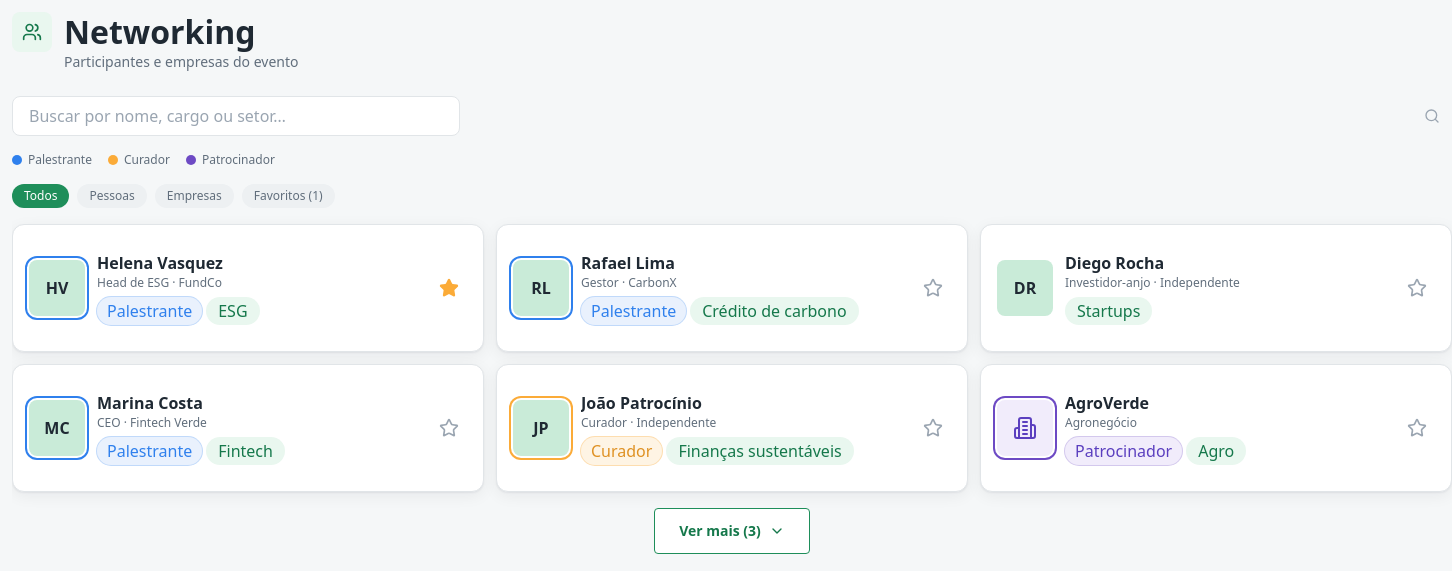
Test: Networking › o filtro de favoritos usa o que foi marcado
The image size is (1452, 571).
Step 1. Click the button "Favoritos (1)" → (288, 196), box [242,184,335,208]
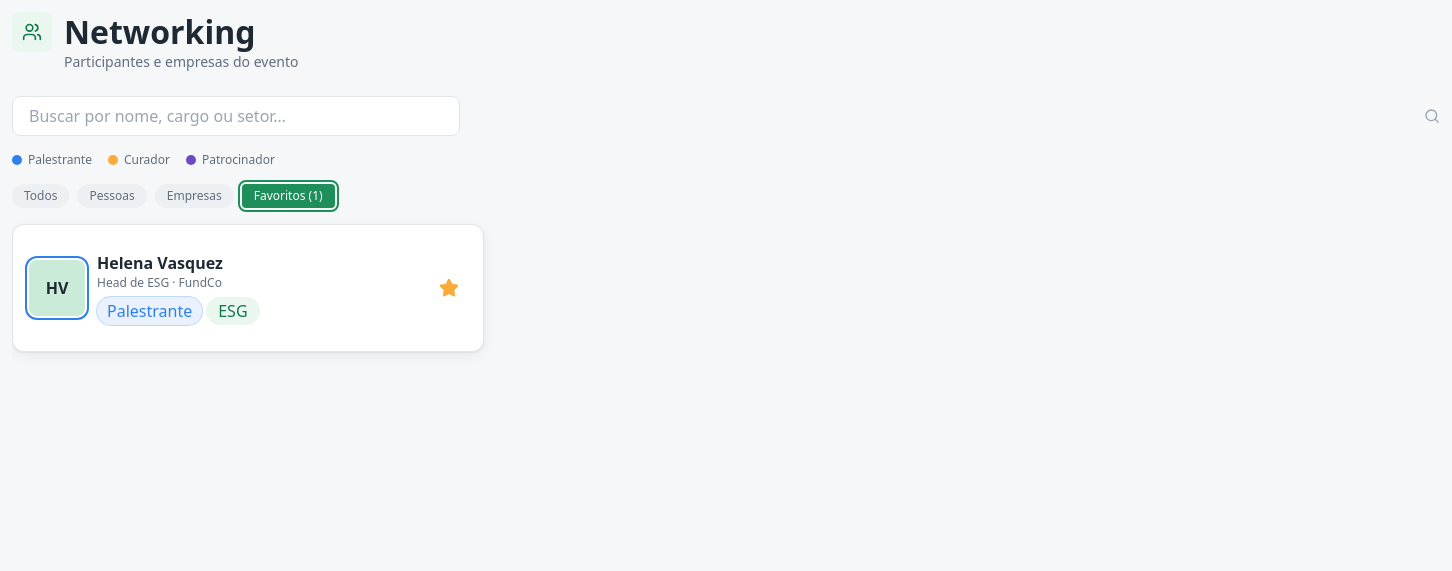
Now the number of list items is 1, box [12,224,484,352]
